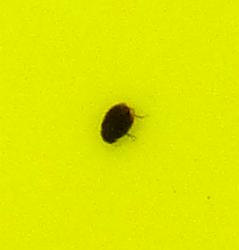Coleoptera: (100, 100, 139, 150)
